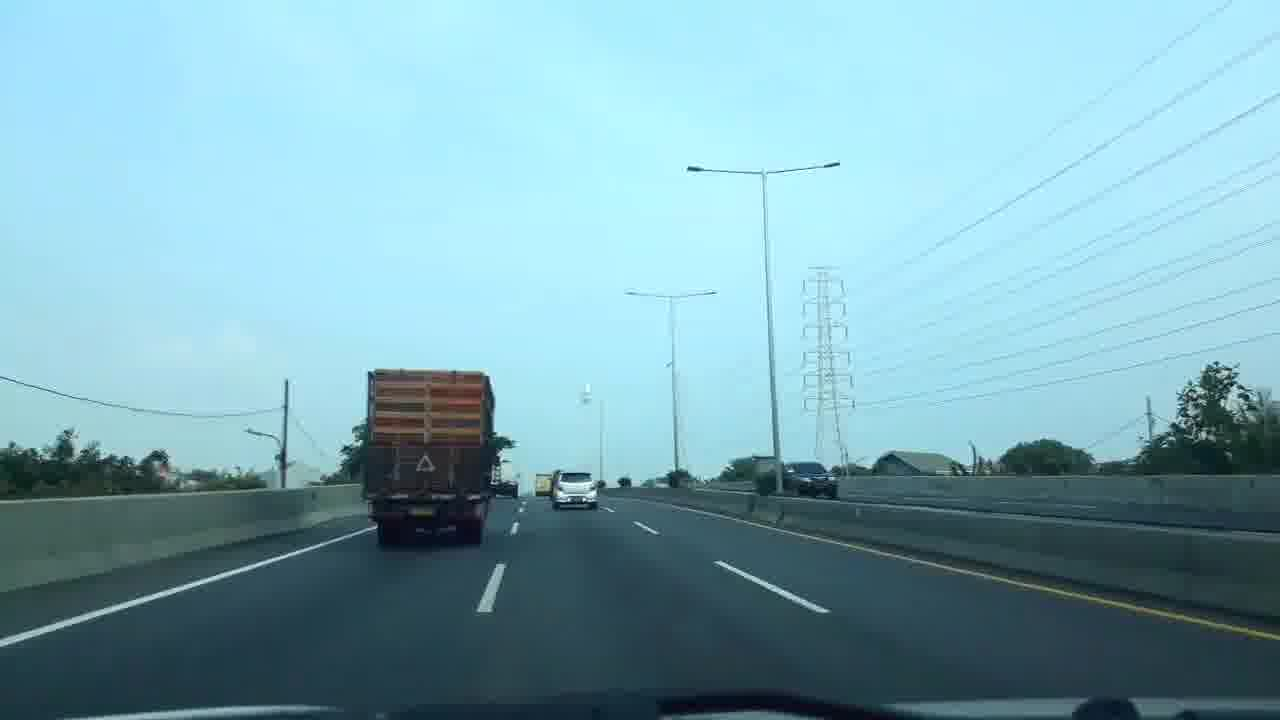plate_positive: (407, 505, 435, 518), (570, 497, 583, 503)
